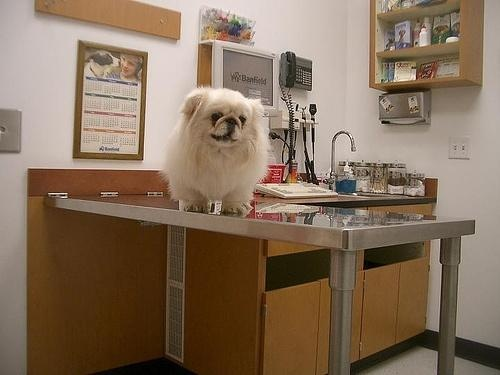dog: (160, 89, 263, 223)
